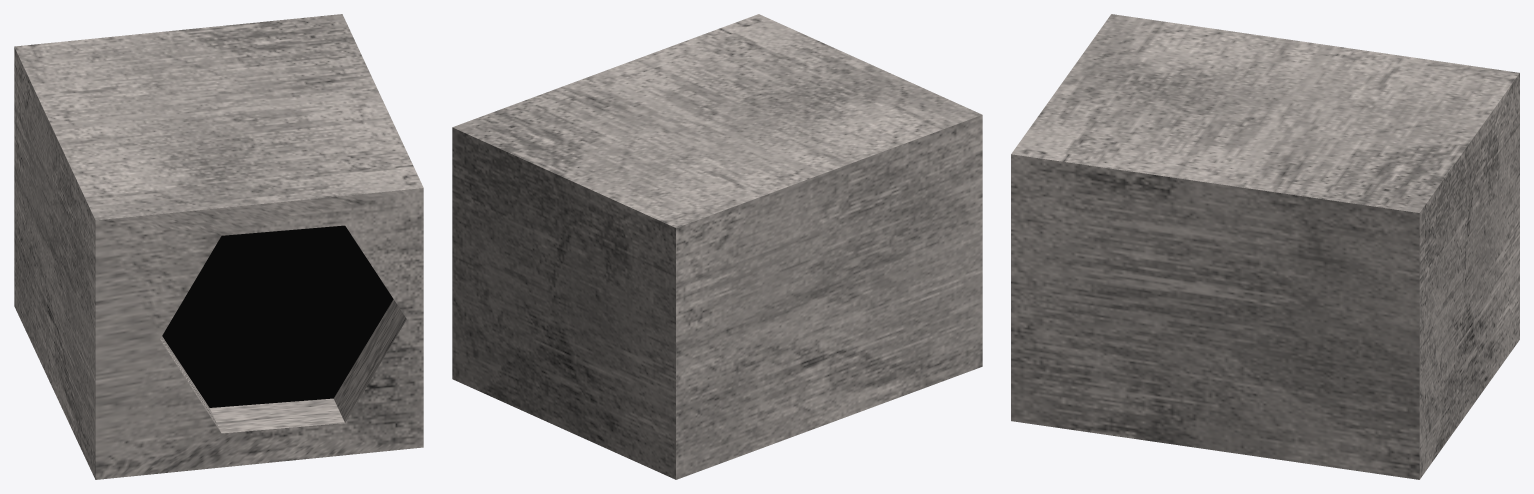
The model's file is Exit.fbx.
3 views of the same model, side by side, from view 1: azimuth 30°, elevation 25°; view 2: azimuth 150°, elevation 25°; view 3: azimuth 270°, elevation 25° (orthographic). The views are drawn at different scales.
Parts seen in each view (by area): view 1: exit, blackSqare; view 2: exit; view 3: exit.
Part boxes in pixels (x1,y1,x2,y2): exit: (14, 14, 423, 479); blackSqare: (162, 225, 393, 407); exit: (452, 14, 982, 479); exit: (1011, 14, 1519, 479).
Size of the model in its own units: 1068 by 668 by 1154.
Materials: 2 (1 with a texture image).
